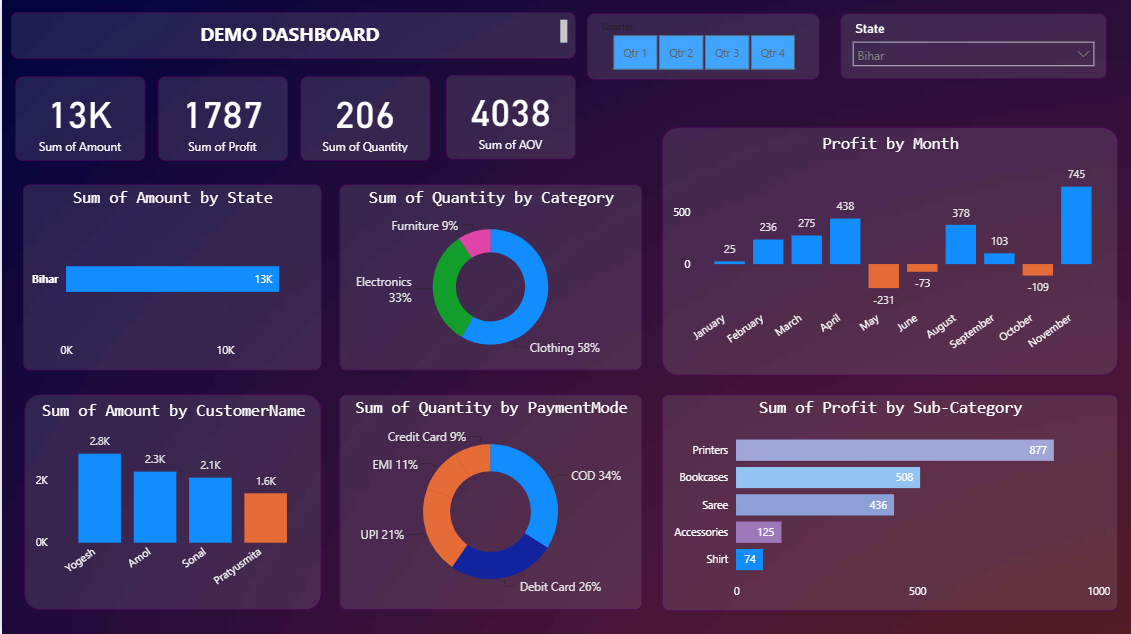

Layout of this report page (visuals, bound fields, positions):
{"tool":"powerbi","page":{"name":"Page 1","canvas":[1280,720],"ordinal":0},"visuals":[{"type":"columnChart","title":" Profit by Month","fields":{"Category":["Orders.Order Date.Variation.Date Hierarchy.Month"],"Y":["Sum(Details.Profit)"]},"box":[746,147.9,515.4,279.9],"z":0},{"type":"barChart","fields":{"Category":["Details.Sub-Category"],"Y":["Sum(Details.Profit)"]},"box":[746,448.6,515.4,245],"z":1000},{"type":"donutChart","fields":{"Category":["Details.Category"],"Y":["Sum(Details.Quantity)"]},"box":[381.7,211.6,342,210],"z":2000},{"type":"donutChart","fields":{"Category":["Details.PaymentMode"],"Y":["Sum(Details.Quantity)"]},"box":[381.7,448.6,342,243.4],"z":3000},{"type":"card","fields":{"Values":["Sum(Details.Amount)"]},"box":[15.9,89.1,146.3,95.4],"z":4000},{"type":"card","fields":{"Values":["Sum(Details.Quantity)"]},"box":[337.2,89.1,146.3,95.4],"z":5000},{"type":"card","fields":{"Values":["Sum(Details.Profit)"]},"box":[176.6,89.1,146.3,95.4],"z":6000},{"type":"barChart","fields":{"Y":["Sum(Details.Amount)"],"Category":["Orders.State"]},"box":[23.9,211.6,337.2,210],"z":7000},{"type":"columnChart","fields":{"Category":["Orders.CustomerName"],"Y":["Sum(Details.Amount)"]},"box":[25.4,448.6,335.6,243.4],"z":8000},{"type":"card","fields":{"Values":["Sum(Details.AOV)"]},"box":[501,87.5,146.3,95.4],"z":9000},{"type":"slicer","fields":{"Values":["Orders.Order Date.Variation.Date Hierarchy.Quarter"]},"box":[661.7,19.1,262.5,74.8],"z":10000},{"type":"slicer","fields":{"Values":["Orders.State"]},"box":[946.8,18.9,300.5,73.7],"z":11000},{"type":"textbox","box":[9.5,17.5,637.8,52.5],"z":12000}]}

Visuals, with their boxes in screenshot pixels (x1, y1, x2, y2), scaled from the page's 1280x720 canvas onto the 1131x634 screenshot:
" Profit by Month" columnChart: x1=659, y1=130, x2=1115, y2=377
barChart - Details.Sub-Category x Sum(Details.Profit): x1=659, y1=395, x2=1115, y2=611
donutChart - Details.Category x Sum(Details.Quantity): x1=337, y1=186, x2=639, y2=371
donutChart - Details.PaymentMode x Sum(Details.Quantity): x1=337, y1=395, x2=639, y2=609
card - Sum(Details.Amount): x1=14, y1=78, x2=143, y2=162
card - Sum(Details.Quantity): x1=298, y1=78, x2=427, y2=162
card - Sum(Details.Profit): x1=156, y1=78, x2=285, y2=162
barChart - Sum(Details.Amount) x Orders.State: x1=21, y1=186, x2=319, y2=371
columnChart - Orders.CustomerName x Sum(Details.Amount): x1=22, y1=395, x2=319, y2=609
card - Sum(Details.AOV): x1=443, y1=77, x2=572, y2=161
slicer - Orders.Order Date.Variation.Date Hierarchy.Quarter: x1=585, y1=17, x2=817, y2=83
slicer - Orders.State: x1=837, y1=17, x2=1102, y2=82
textbox: x1=8, y1=15, x2=572, y2=62
